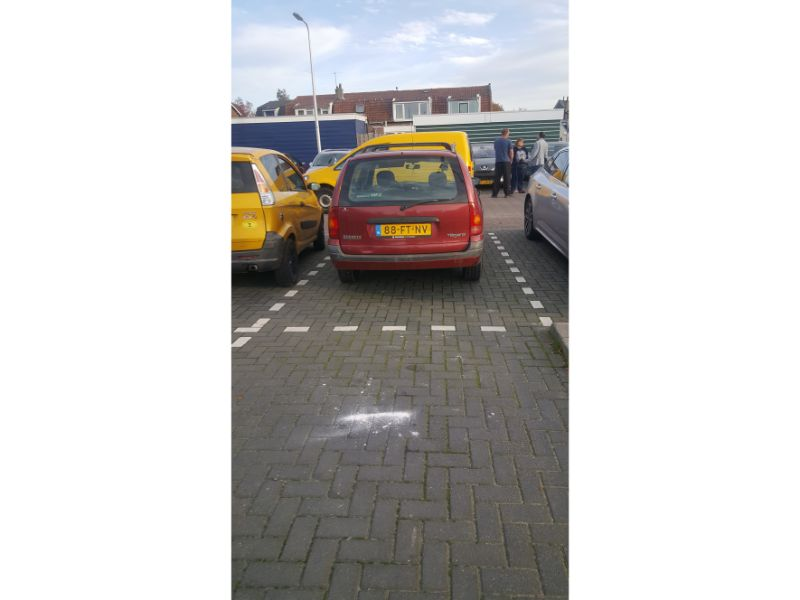kenteken: (376, 222, 430, 238)
